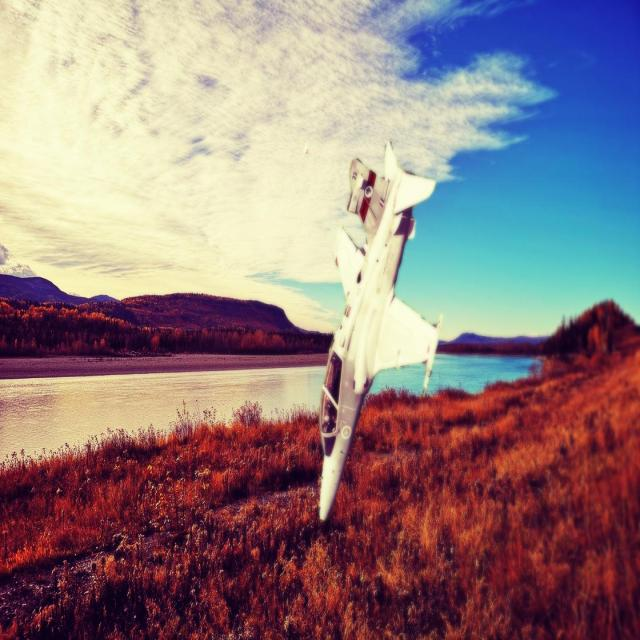airplane: (317, 138, 442, 522)
